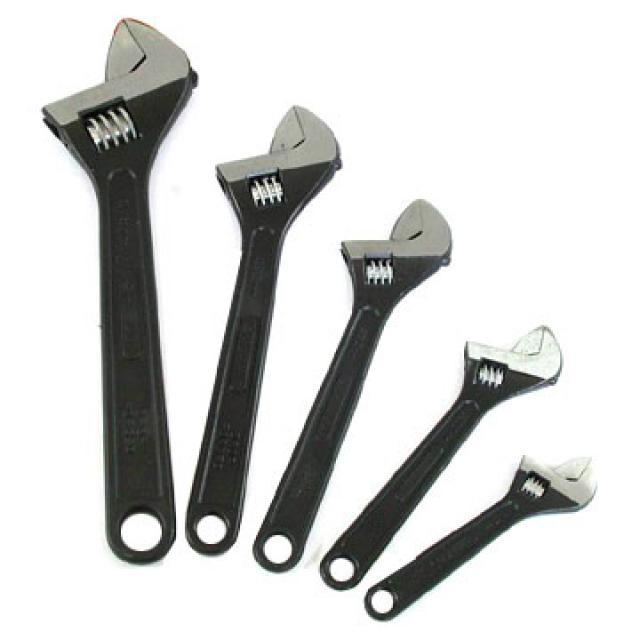wrench: (40, 13, 202, 566), (250, 192, 458, 576), (183, 100, 344, 563), (318, 320, 568, 595), (361, 446, 605, 623)
